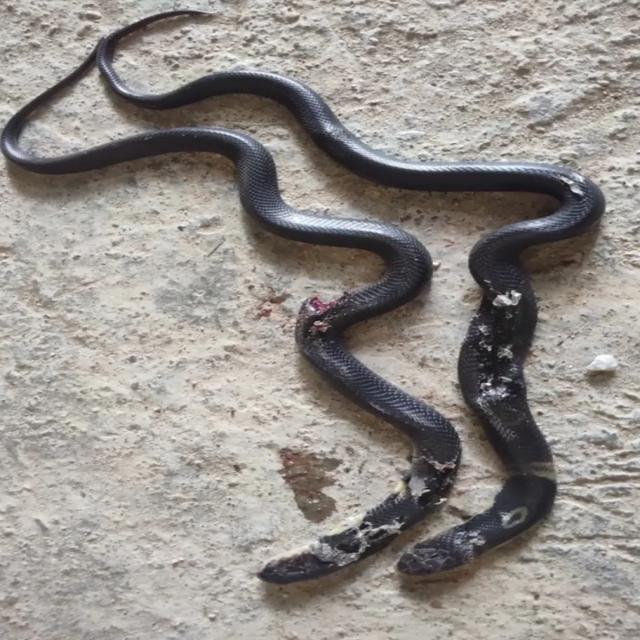Venomous: (259, 525, 380, 586), (400, 525, 519, 576)
